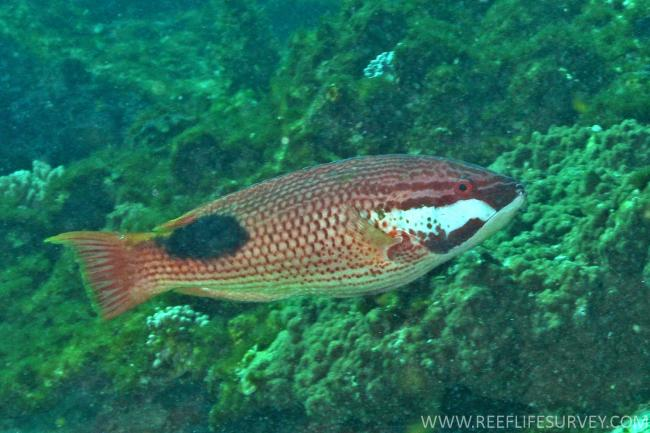fish: (47, 153, 527, 322)
